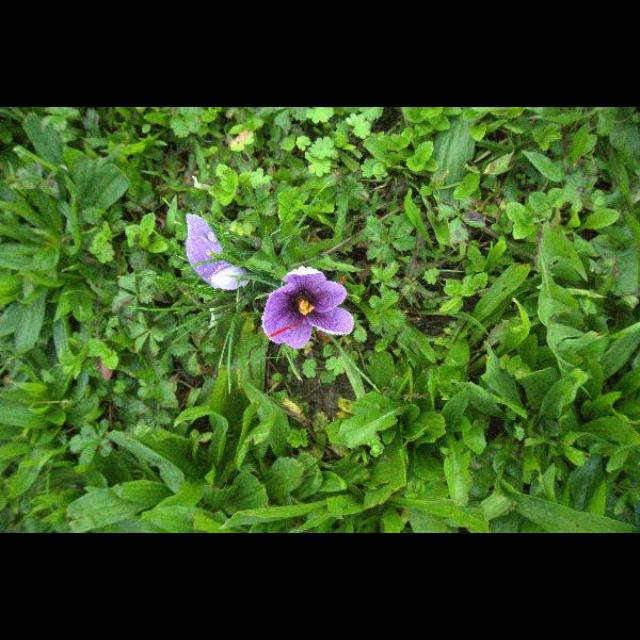flower: (263, 266, 353, 350)
overlap: (185, 213, 247, 290)
